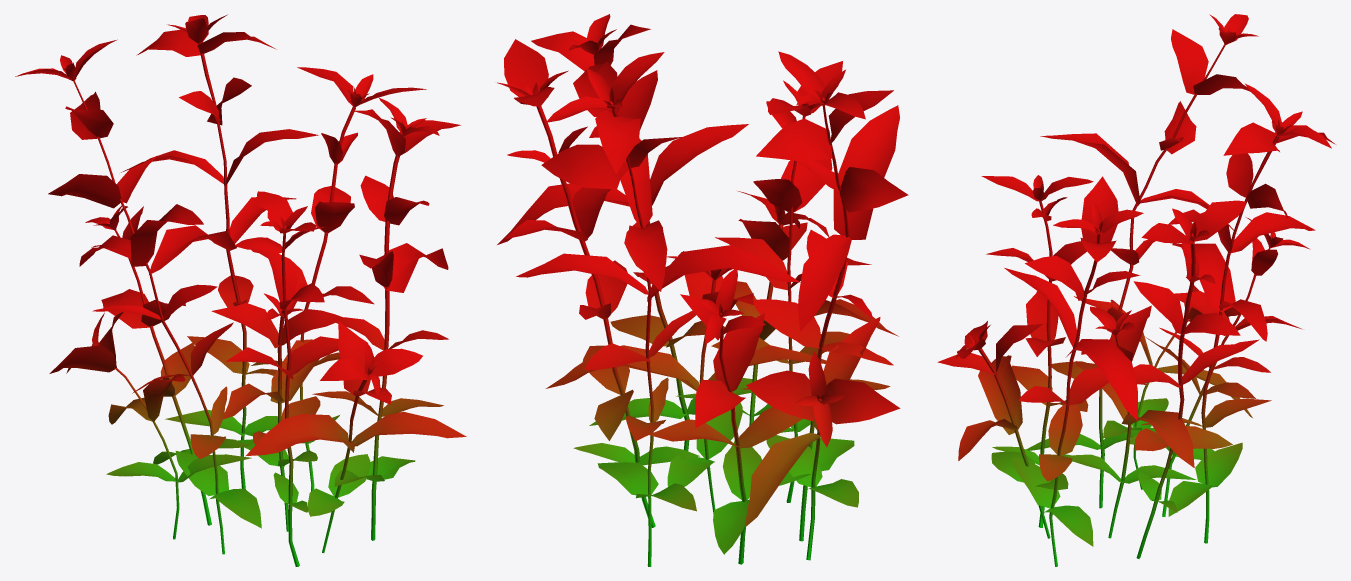
Rendered from Var3_LOD2.fbx.
3 renders of one model, left to right at view 1: azimuth 30°, elevation 25°; view 2: azimuth 150°, elevation 25°; view 3: azimuth 270°, elevation 25°, orthographic. The views are drawn at different scales.
Visible parts, largest first — view 1: _89ut_Var3_LOD2; view 2: _89ut_Var3_LOD2; view 3: _89ut_Var3_LOD2.
Part boxes in pixels (x1,y1,x2,y2): _89ut_Var3_LOD2: [15, 14, 466, 566]; _89ut_Var3_LOD2: [497, 14, 908, 566]; _89ut_Var3_LOD2: [937, 14, 1335, 566].
Bounding box in the file's own units: 37.9 × 45.91 × 36.46.
